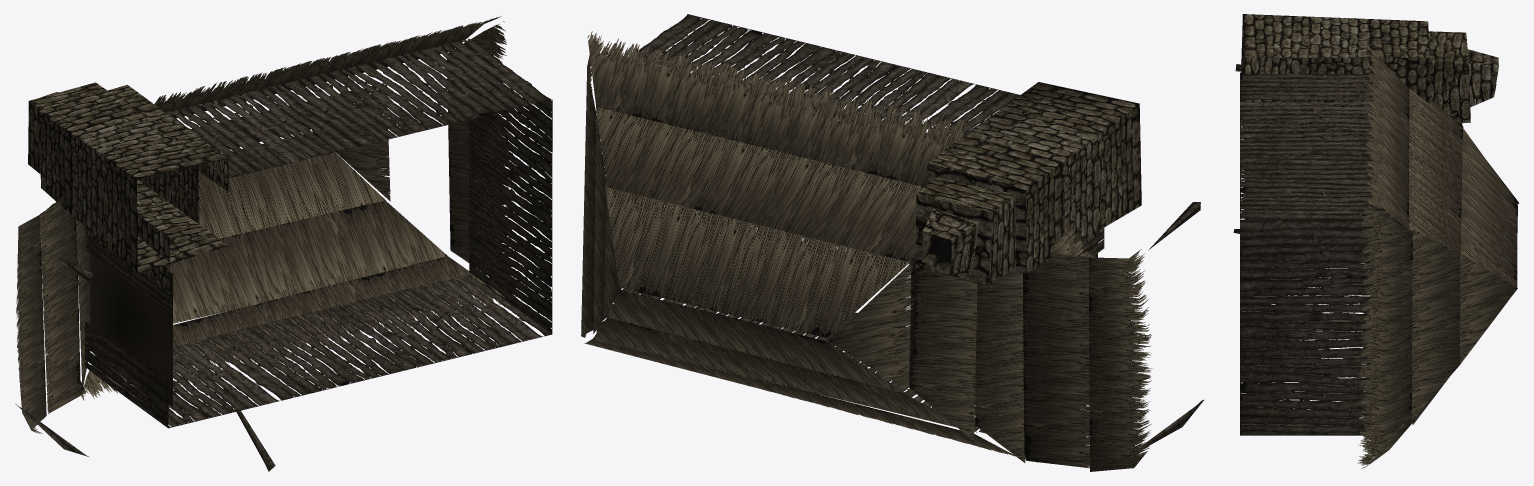
Rendered from MEP_Shack_01_LOD_03.fbx.
3 views of the same model, side by side, from view 1: azimuth 30°, elevation 25°; view 2: azimuth 150°, elevation 25°; view 3: azimuth 270°, elevation 25° (orthographic). The views are drawn at different scales.
Parts seen in each view (by area): view 1: MEP_Shack_01_LOD_03, MEP_Shack_Chimney_01_LOD_03; view 2: MEP_Shack_01_LOD_03, MEP_Shack_Chimney_01_LOD_03; view 3: MEP_Shack_01_LOD_03, MEP_Shack_Chimney_01_LOD_03.
Boxes of the visible parts, x1,y1,x2,y2 form: MEP_Shack_01_LOD_03: (15,16,552,471); MEP_Shack_Chimney_01_LOD_03: (28,82,228,294); MEP_Shack_01_LOD_03: (581,14,1203,471); MEP_Shack_Chimney_01_LOD_03: (915,82,1141,284); MEP_Shack_01_LOD_03: (1233,45,1518,468); MEP_Shack_Chimney_01_LOD_03: (1240,14,1498,139).
Size of the model in its own units: 12.9 by 8.19 by 6.78.
